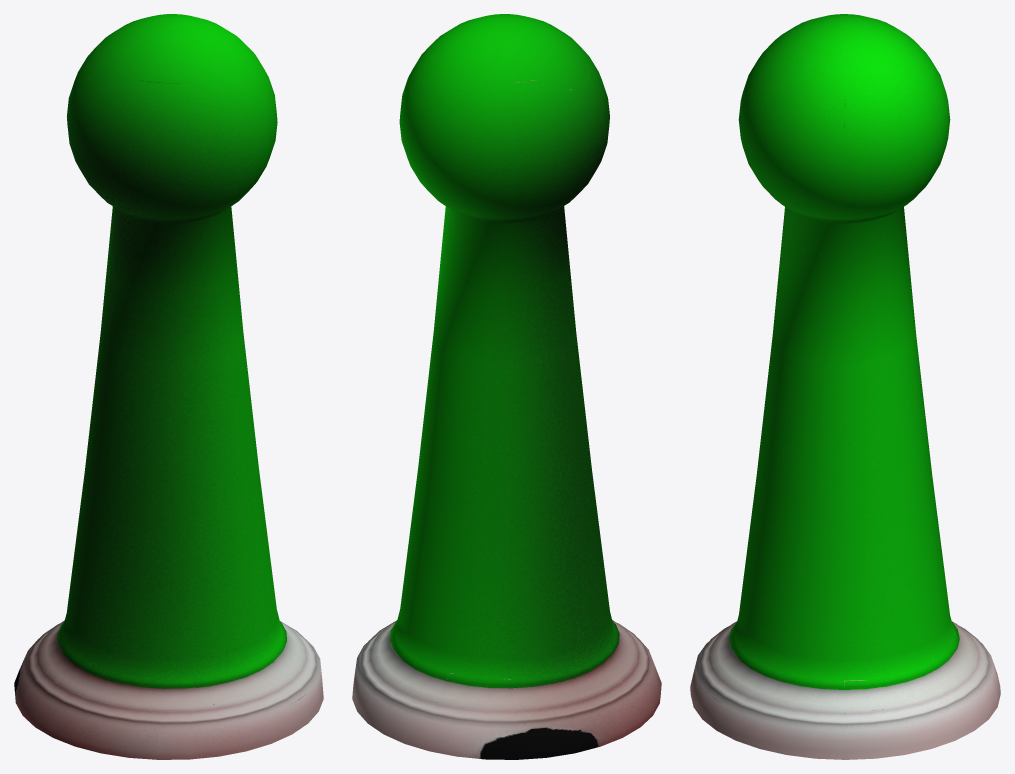
Rendered from green_pawn.gltf.
3 renders of one model, left to right at view 1: azimuth 30°, elevation 25°; view 2: azimuth 150°, elevation 25°; view 3: azimuth 270°, elevation 25°, orthographic.
Parts seen in each view (by area): view 1: pawn_lp; view 2: pawn_lp; view 3: pawn_lp.
Part boxes in pixels (left/top/right/bottom): pawn_lp: left=14, top=14, right=323, bottom=759; pawn_lp: left=352, top=14, right=661, bottom=759; pawn_lp: left=690, top=14, right=1000, bottom=759.
Size of the model in its own units: 0.7037 by 1.68 by 0.7024.
Materials: 1 (1 with a texture image).
